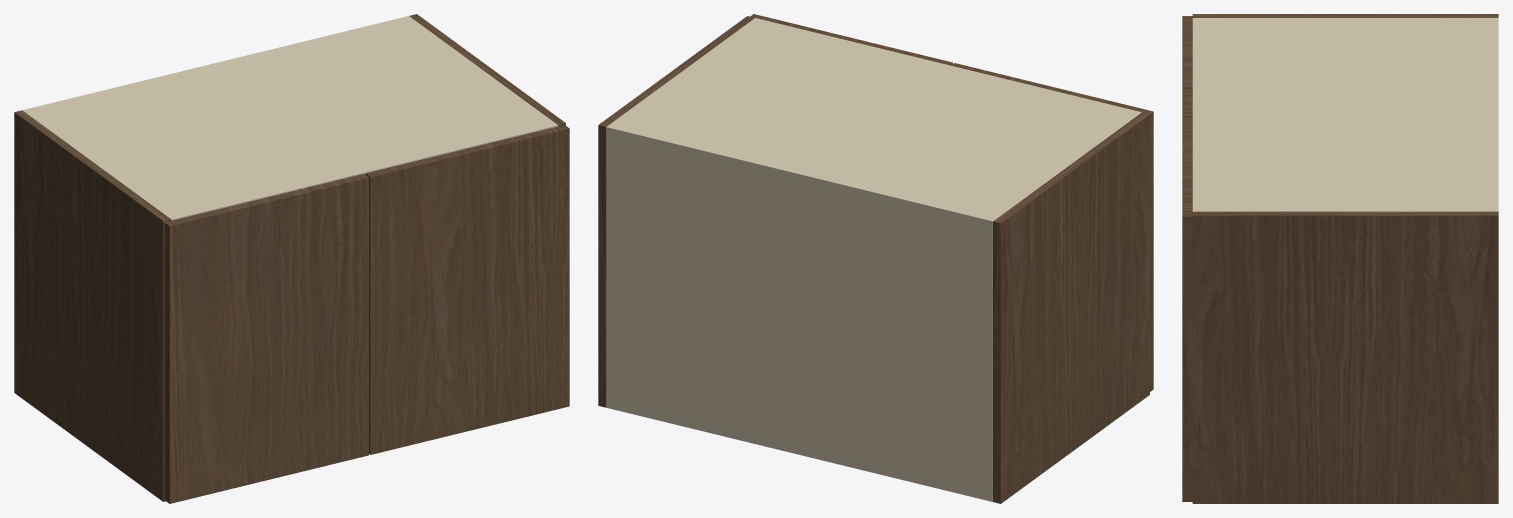
File: oppein-ply-mso-w362424.glb
3 renders of one model, left to right at view 1: azimuth 30°, elevation 25°; view 2: azimuth 150°, elevation 25°; view 3: azimuth 270°, elevation 25°, orthographic. The views are drawn at different scales.
Visible parts, largest first — view 1: Door, Door.001, Cabinet top, Cabinet side, Cabinet side.001, Cabinet back; view 2: Cabinet back, Cabinet top, Cabinet side, Cabinet side.001, Cabinet bottom, Door, Door.001; view 3: Cabinet side.001, Cabinet top, Door.001, Cabinet side, Cabinet back, Door.
Boxes of the visible parts, x1=… form: Door: x1=164, y1=174, x2=368, y2=503; Door.001: x1=365, y1=125, x2=569, y2=454; Cabinet top: x1=23, y1=18, x2=557, y2=220; Cabinet side: x1=14, y1=110, x2=170, y2=501; Cabinet side.001: x1=409, y1=14, x2=565, y2=126; Cabinet back: x1=22, y1=16, x2=410, y2=111; Cabinet back: x1=606, y1=125, x2=995, y2=501; Cabinet top: x1=606, y1=18, x2=1141, y2=228; Cabinet side: x1=993, y1=112, x2=1149, y2=503; Cabinet side.001: x1=598, y1=16, x2=754, y2=407; Cabinet bottom: x1=606, y1=400, x2=992, y2=501; Door: x1=951, y1=63, x2=1153, y2=391; Door.001: x1=750, y1=14, x2=952, y2=65; Cabinet side.001: x1=1192, y1=211, x2=1498, y2=503; Cabinet top: x1=1192, y1=18, x2=1498, y2=211; Door.001: x1=1182, y1=116, x2=1192, y2=501; Cabinet side: x1=1192, y1=14, x2=1498, y2=17; Cabinet back: x1=1493, y1=18, x2=1498, y2=211; Door: x1=1182, y1=16, x2=1192, y2=116.
Bounding box in the file's own units: 0.9144 × 0.6096 × 0.6064.
2 materials, 1 textured.
